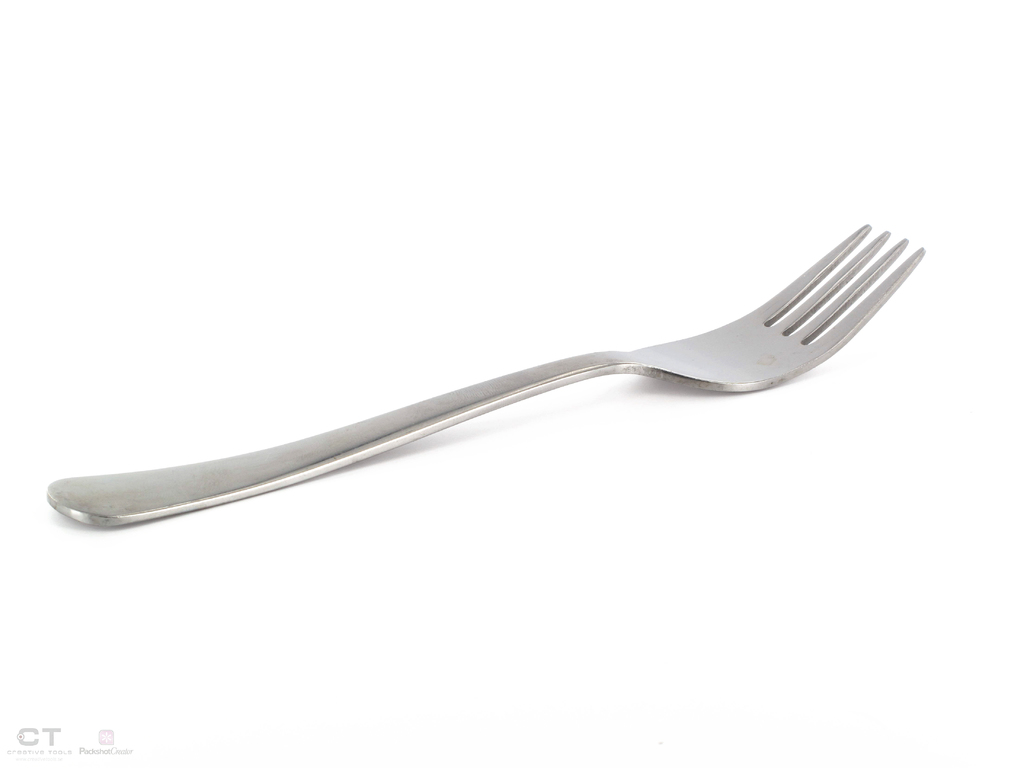fork: (47, 224, 923, 525)
